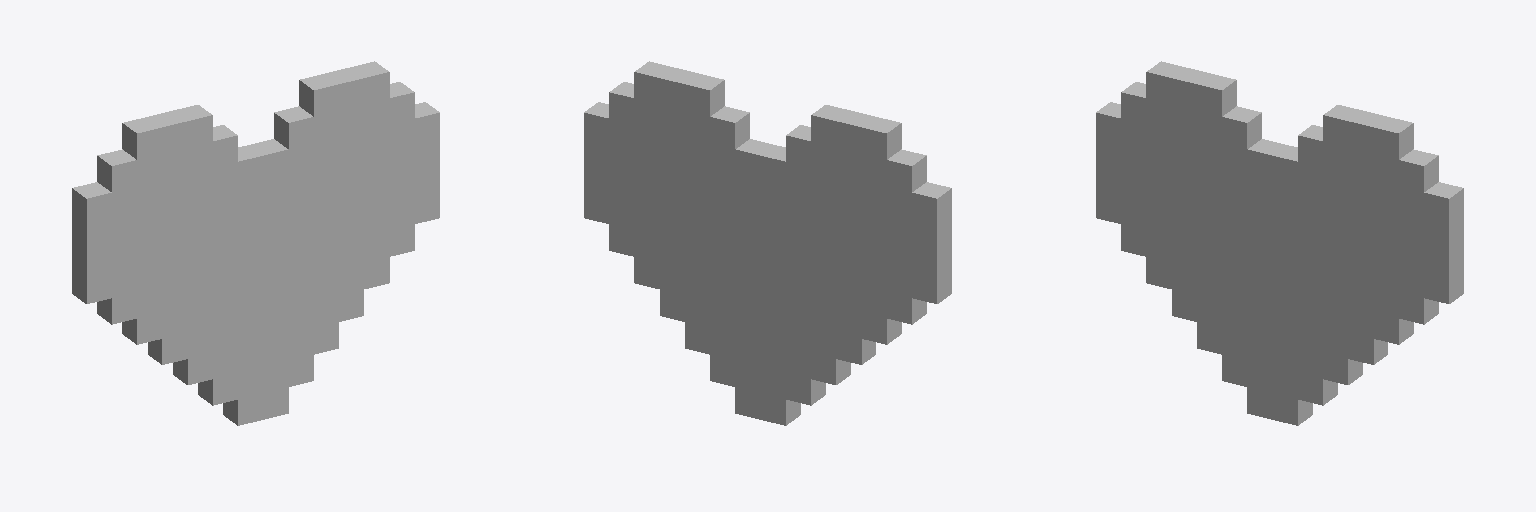
File: ikonka heart.obj
3 renders of one model, left to right at view 1: azimuth 30°, elevation 25°; view 2: azimuth 150°, elevation 25°; view 3: azimuth 330°, elevation 25°, orthographic.
Visible parts, largest first — view 1: object 1; view 2: object 1; view 3: object 1.
Part boxes in pixels (x1,y1,x2,y2): object 1: (72, 61, 439, 425); object 1: (584, 61, 951, 425); object 1: (1096, 61, 1463, 425).
Bounding box in the file's own units: 1.4 × 1.2 × 0.1.